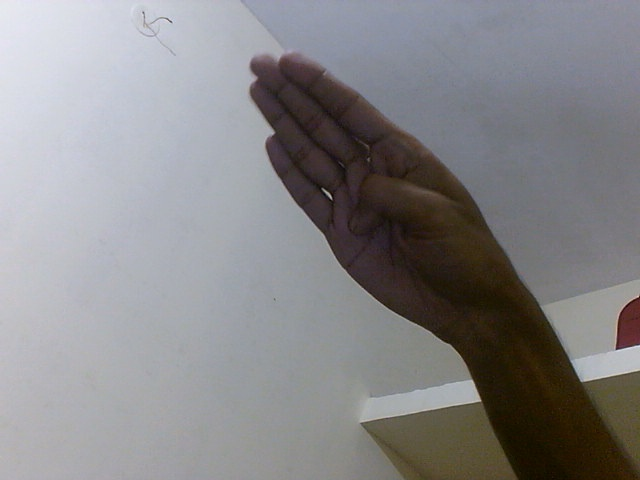hand: (248, 49, 523, 352)
